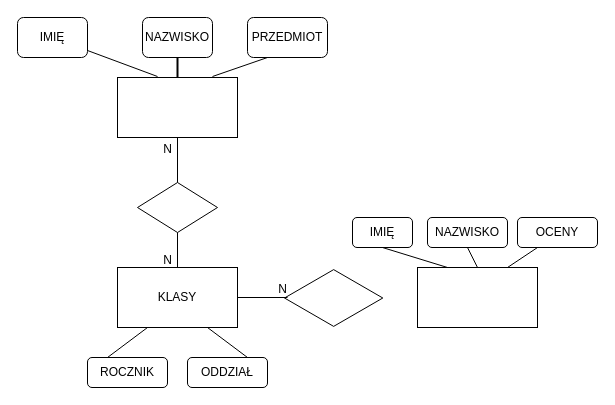
The diagram is 615 pixels wide and 405 high, and some of its shapes have lost their labels. Each missing label, with the centre of its shape:
"NAUCZYCIELE" belongs at (x=177, y=107).
"składają się z" belongs at (x=333, y=298).
"UCZNIOWIE" belongs at (x=477, y=297).
"uczą" belongs at (x=177, y=207).
